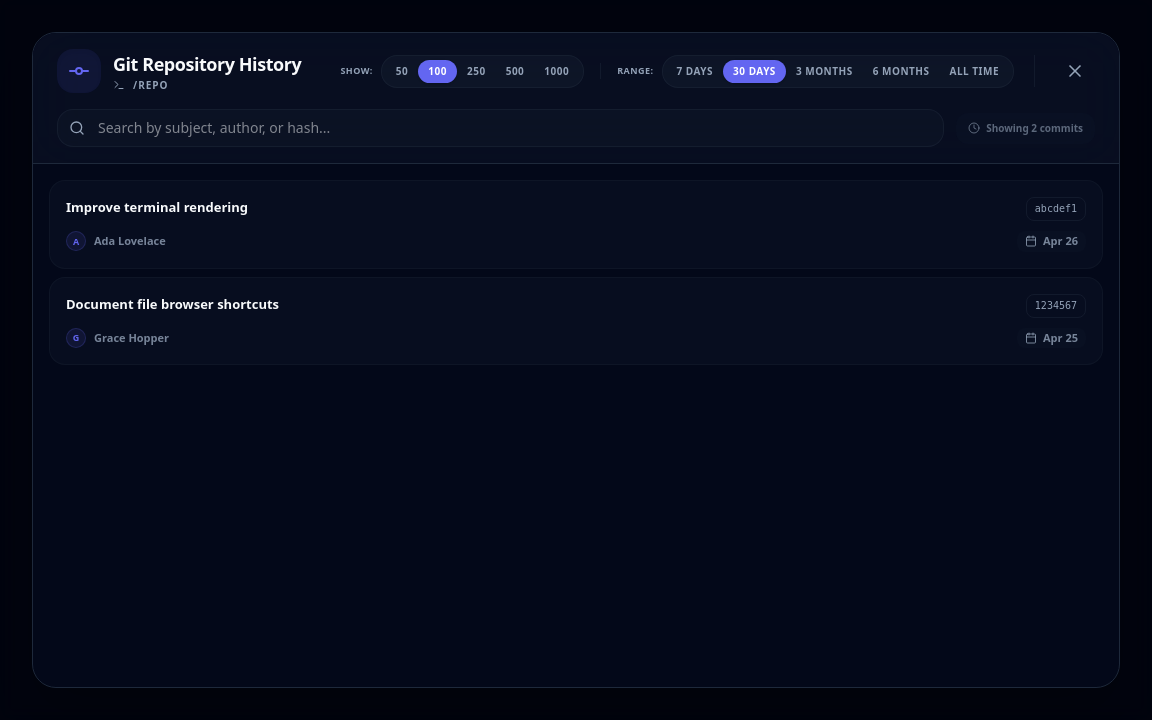
GitHistoryModal › exposes modal controls with accessible names and keyboard-reachable actions
expect the button named "Close git history" is shown: met, box [1055,51,1095,91]
expect the search field named "Search git commits" is shown: met, box [57,109,944,147]
Click the button with aria-label "view commit abcdef1: Improve terminal rendering": (157, 207) [49,180,1103,268]
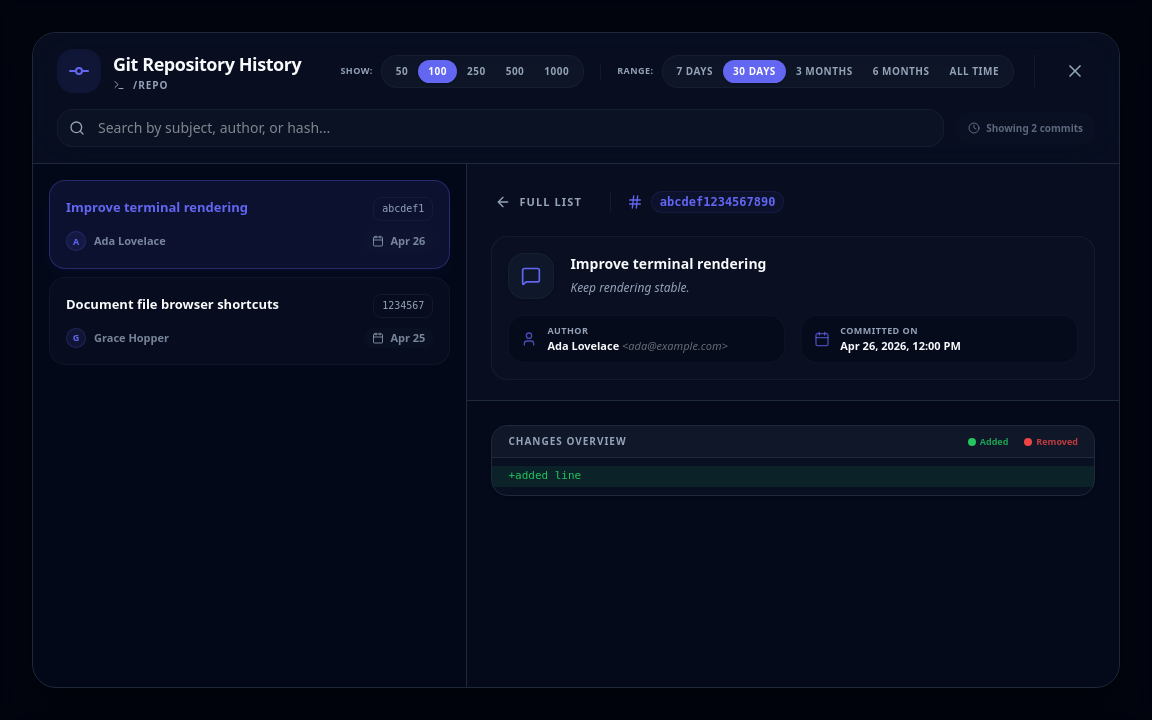
expect the button with aria-label "Copy commit hash abcdef1234567890" is shown: met, box [627,191,806,213]
